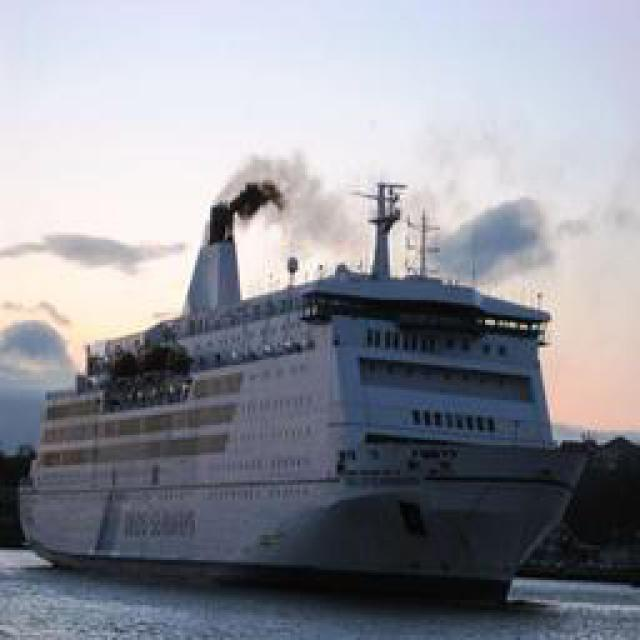Ship: (36, 185, 601, 593)
